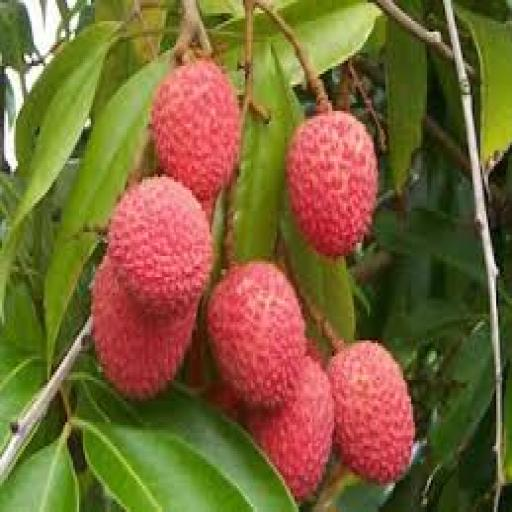lychee: (93, 256, 195, 398), (109, 177, 213, 314), (208, 262, 306, 406), (287, 111, 377, 255), (151, 61, 241, 200), (248, 359, 334, 501), (329, 341, 415, 482), (204, 383, 243, 422)
